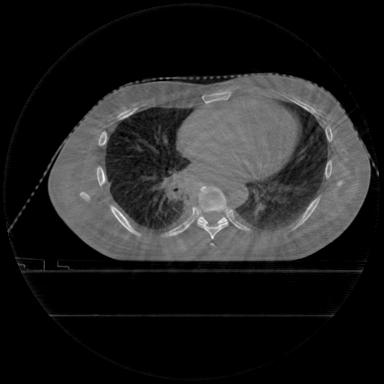body: (48, 74, 369, 261)
cord: (196, 186, 248, 240)
paru kanan: (106, 107, 192, 228)
paru kiri: (236, 102, 328, 229)
